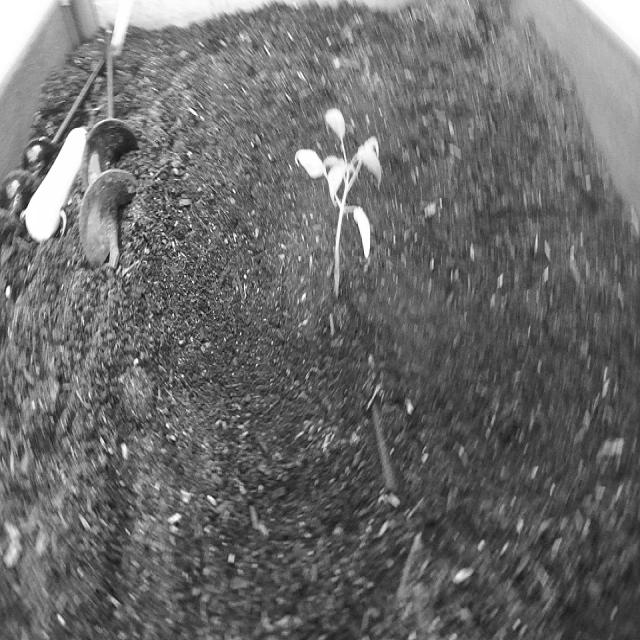Healthy: (290, 91, 393, 312)
